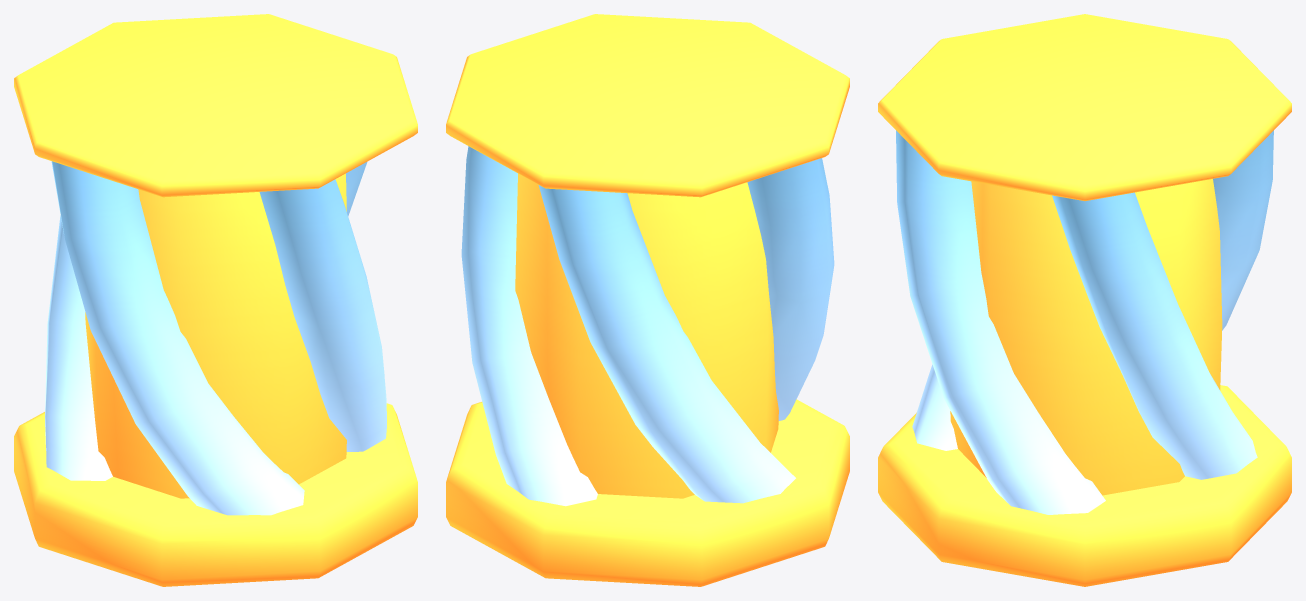
The model's file is gold_and_steel_grip_052.glb.
The picture shows the model from 3 angles, left to right: view 1: azimuth 30°, elevation 25°; view 2: azimuth 150°, elevation 25°; view 3: azimuth 270°, elevation 25°; orthographic projection.
Visible parts, largest first — view 1: gold_and_steel_grip_052; view 2: gold_and_steel_grip_052; view 3: gold_and_steel_grip_052.
Boxes of the visible parts, x1,y1,x2,y2 form: gold_and_steel_grip_052: (14,14,417,586); gold_and_steel_grip_052: (446,14,849,586); gold_and_steel_grip_052: (878,14,1291,586).
Size of the model in its own units: 2.89 by 3.13 by 2.89.
1 material, 1 textured.
